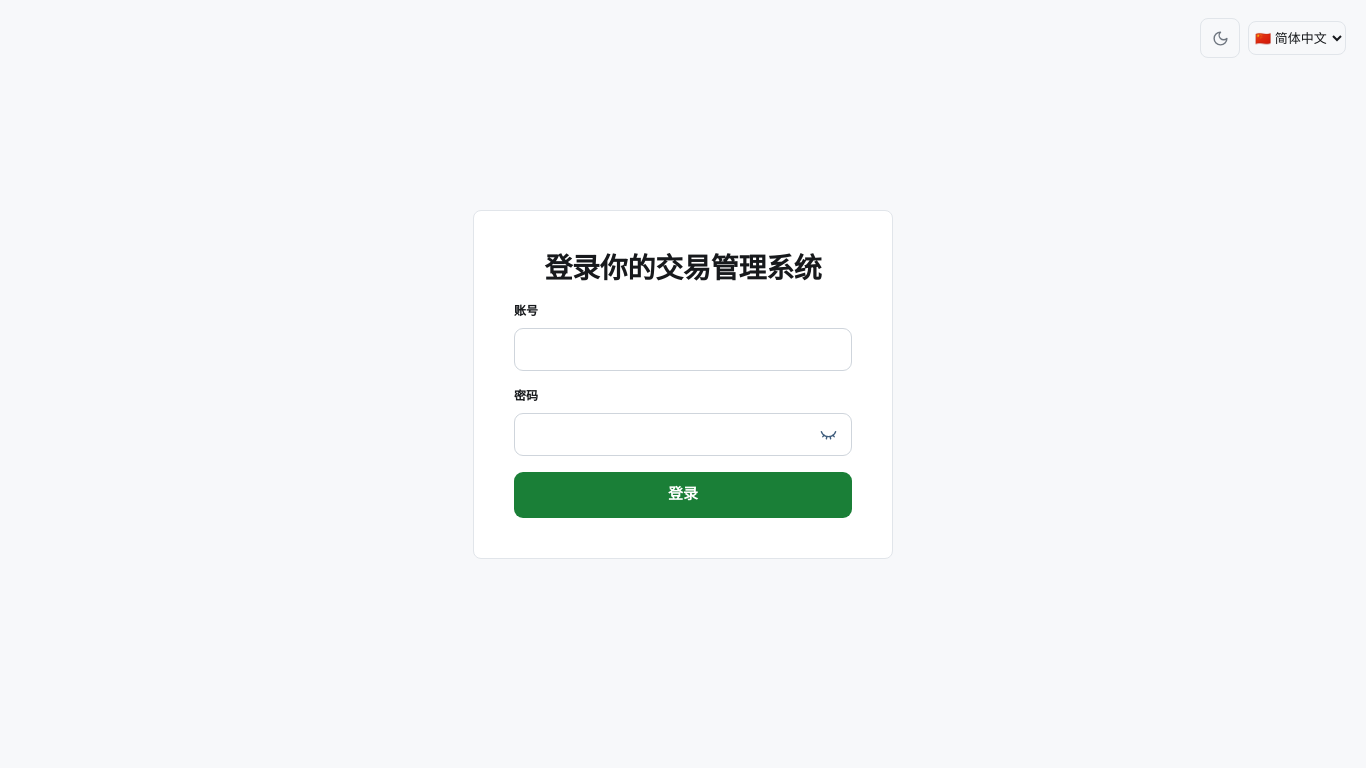
Test: LoginPage › shares the theme toggle with the logged-in shell and defaults to light mode
This screenshot has width=1366, height=768.
Click the button named "切换到深色模式" at {"x": 1220, "y": 38}, box x1=1200 y1=18 x2=1240 y2=58
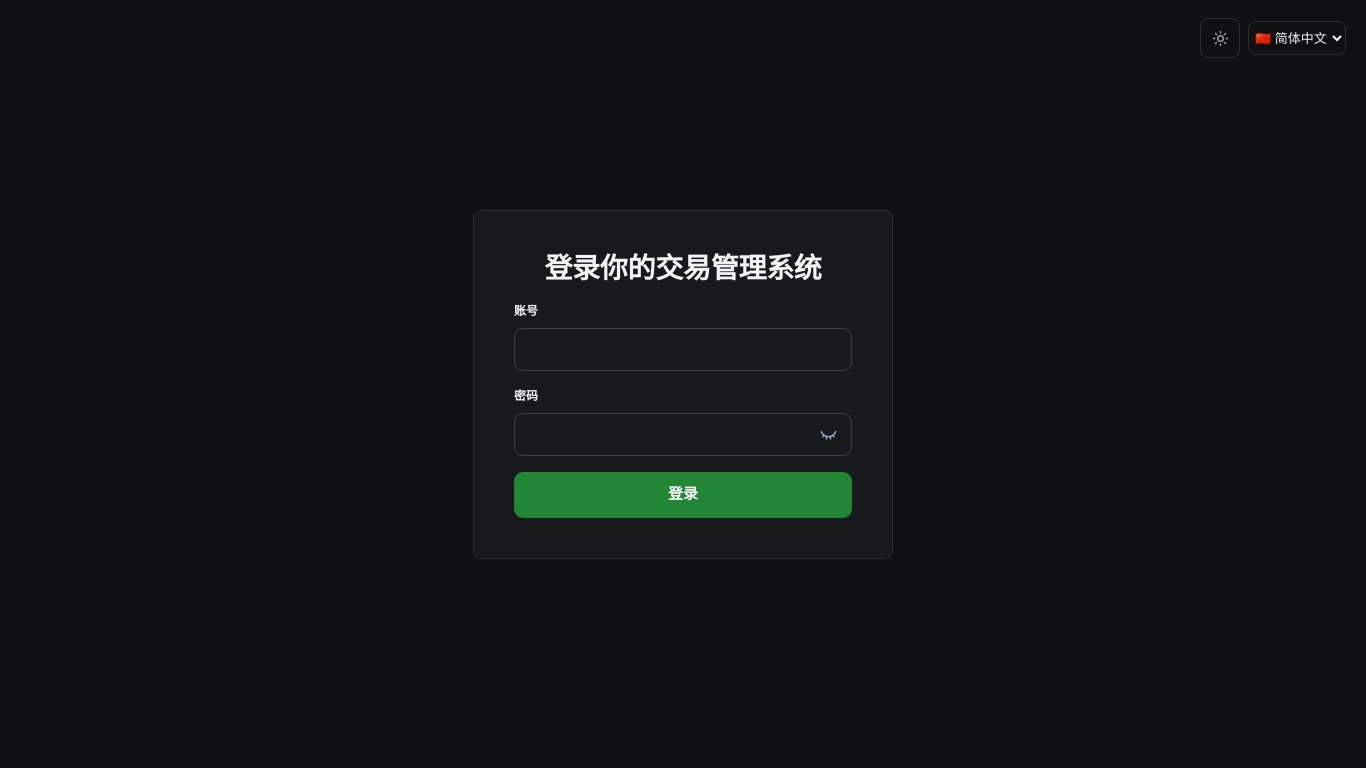
Now the button named "切换到浅色模式" is shown, box x1=1200 y1=18 x2=1240 y2=58
